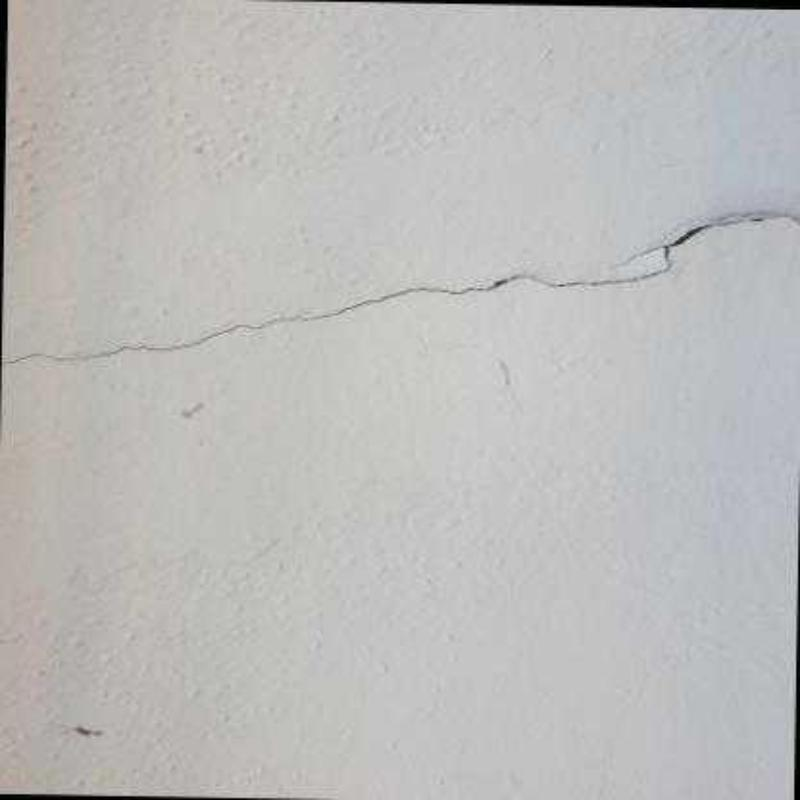crack: (2, 215, 799, 365)
